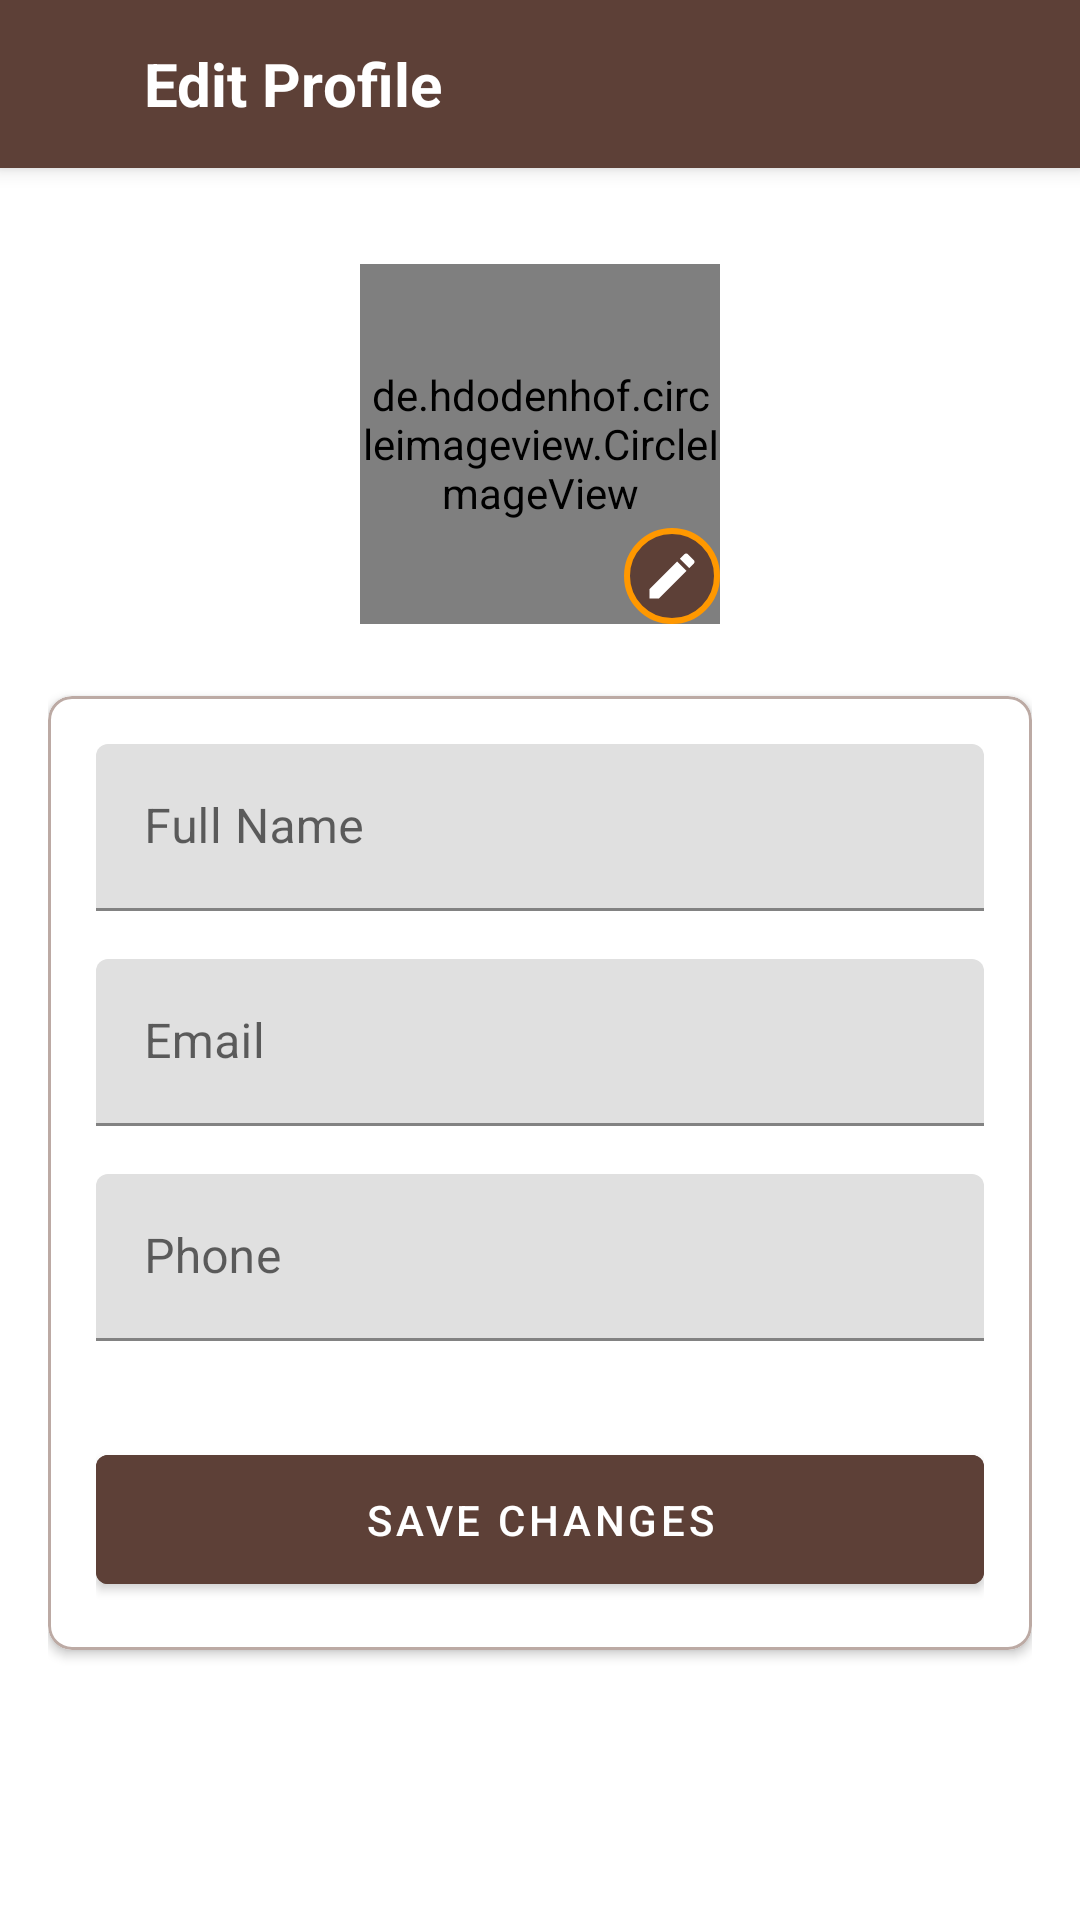

Icon click points for this 1080 x 1920 phone screenshot, format (x,y):
edit: (672,576)
